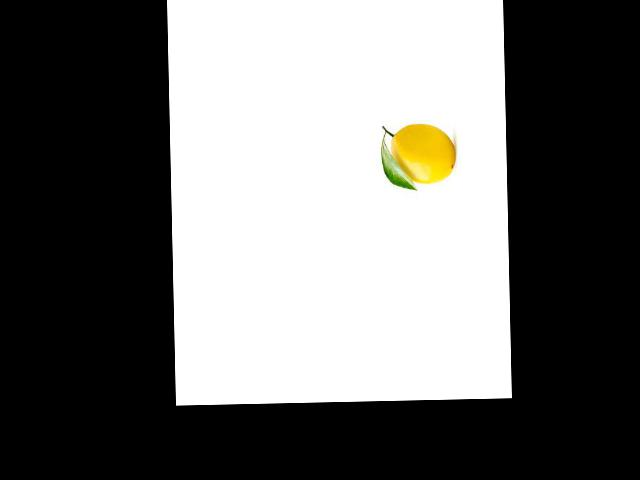lemon: (384, 118, 461, 187)
